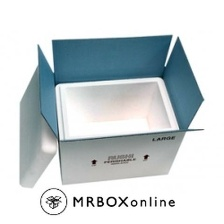book: (30, 27, 208, 187)
foam_box: (50, 72, 184, 142)
